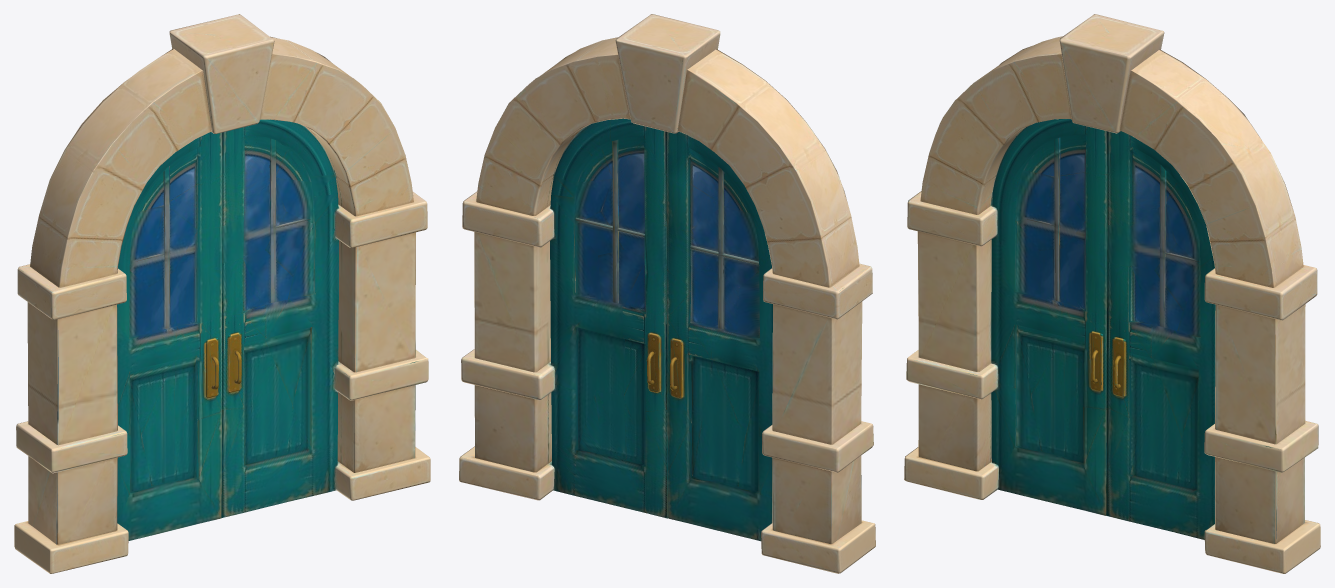
The model's file is baydoor.glb.
3 views of the same model, side by side, from view 1: azimuth 30°, elevation 25°; view 2: azimuth 150°, elevation 25°; view 3: azimuth 330°, elevation 25° (orthographic).
Parts seen in each view (by area): view 1: baydoor; view 2: baydoor; view 3: baydoor.
Part boxes in pixels (left/top/right/bottom): baydoor: left=14, top=14, right=430, bottom=573; baydoor: left=459, top=14, right=875, bottom=573; baydoor: left=904, top=14, right=1320, bottom=573.
Size of the model in its own units: 0.8313 by 1 by 0.1392.
Materials: 1 (1 with a texture image).
